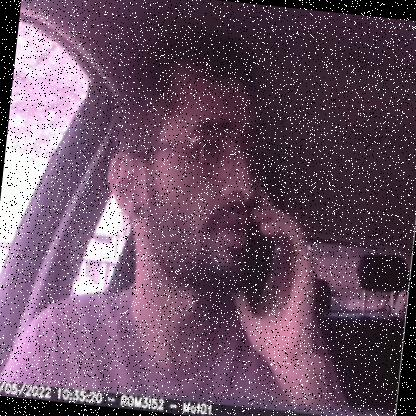phone: (225, 191, 300, 317)
